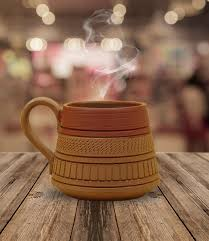mug: (9, 82, 162, 215)
